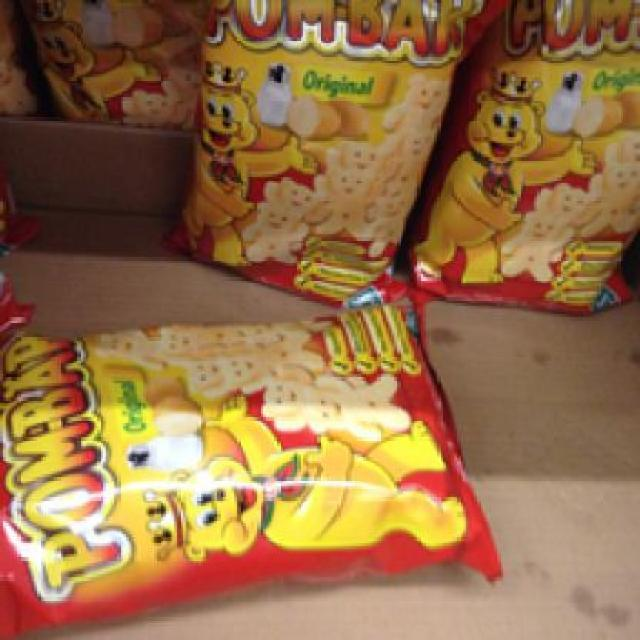Chips: (0, 303, 489, 626), (174, 0, 466, 309), (417, 5, 637, 308)
